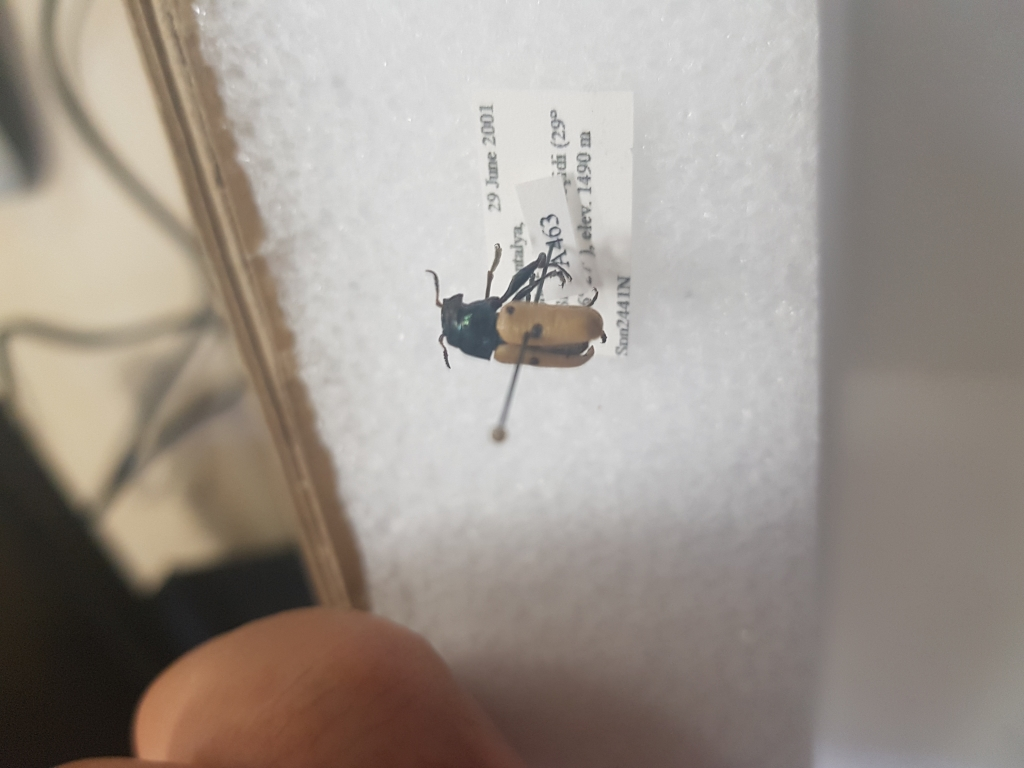Labidostomis_maculipennis: (422, 243, 613, 374)
